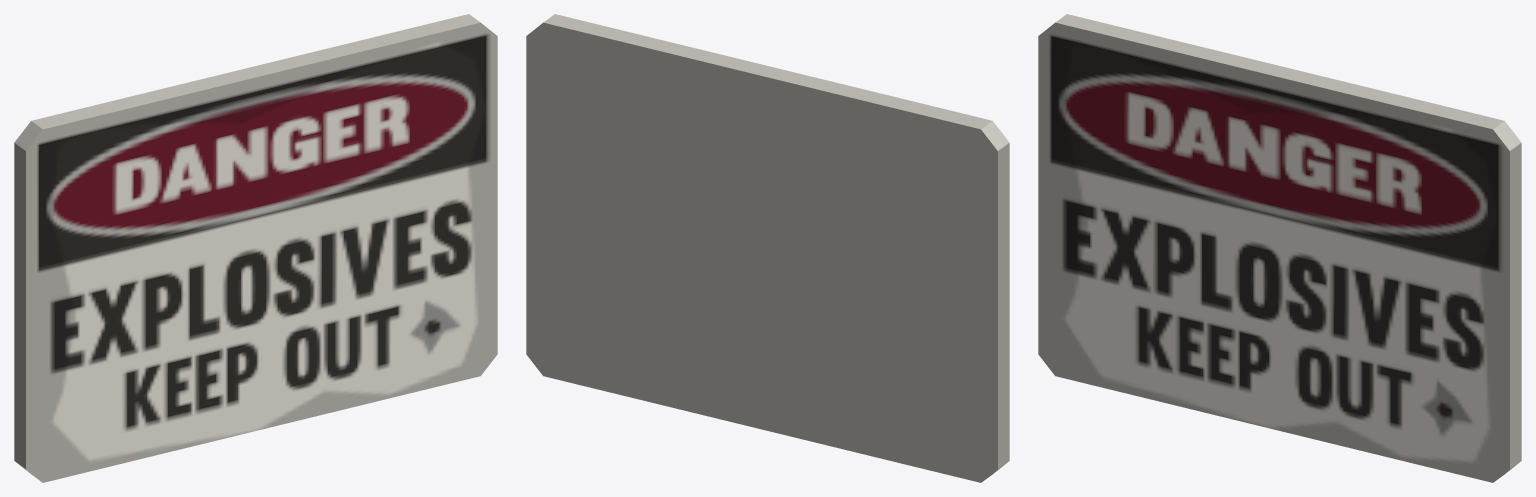
Rendered from SM_Prop_Sign_Safety_04.glb.
3 views of the same model, side by side, from view 1: azimuth 30°, elevation 25°; view 2: azimuth 150°, elevation 25°; view 3: azimuth 330°, elevation 25° (orthographic).
Visible parts, largest first — view 1: SM_Prop_Sign_Safety_04; view 2: SM_Prop_Sign_Safety_04; view 3: SM_Prop_Sign_Safety_04.
Boxes of the visible parts, x1,y1,x2,y2 form: SM_Prop_Sign_Safety_04: [14, 14, 497, 482]; SM_Prop_Sign_Safety_04: [526, 14, 1009, 482]; SM_Prop_Sign_Safety_04: [1038, 14, 1521, 482].
Bounding box in the file's own units: 0.9631 × 0.69 × 0.0416.
1 material, 1 textured.
